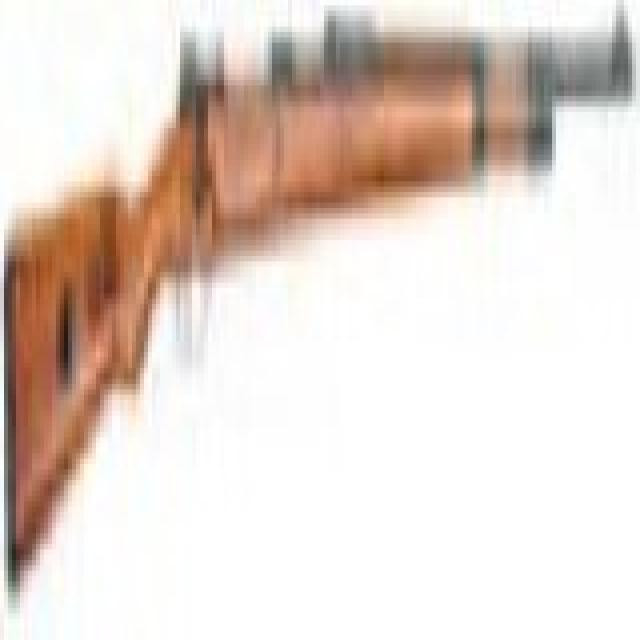Gun: (4, 0, 624, 547)
